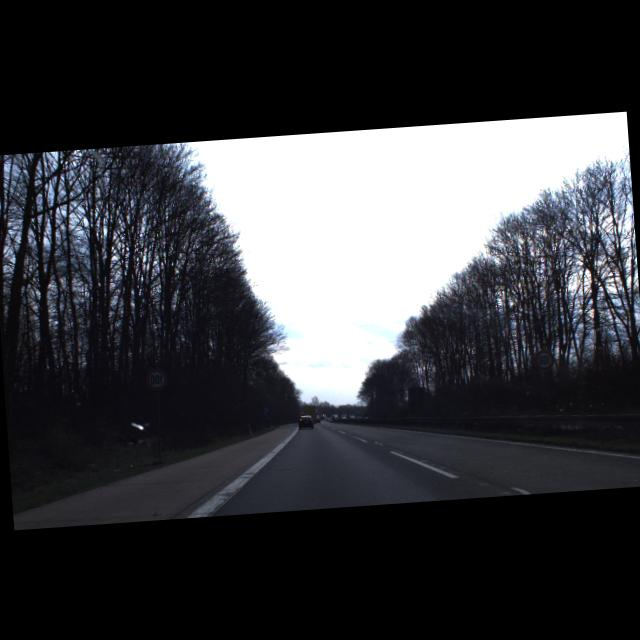prohibitory: (144, 366, 169, 391), (532, 347, 556, 370)
